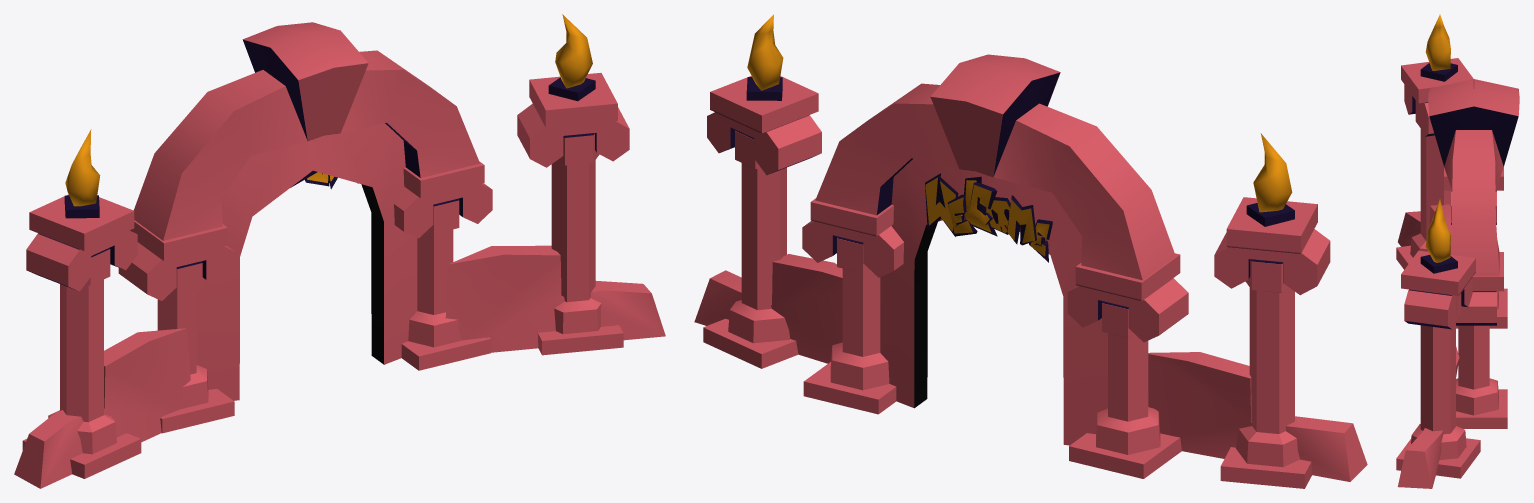
The model's file is welcome_gate_modified.fbx.
The picture shows the model from 3 angles, left to right: view 1: azimuth 30°, elevation 25°; view 2: azimuth 150°, elevation 25°; view 3: azimuth 270°, elevation 25°; orthographic projection. The views are drawn at different scales.
Parts seen in each view (by area): view 1: Pillars; view 2: Pillars, welcome_sign; view 3: Pillars.
Boxes of the visible parts, x1,y1,x2,y2 form: Pillars: (14, 14, 665, 488); Pillars: (694, 14, 1367, 488); welcome_sign: (925, 173, 1052, 262); Pillars: (1396, 14, 1519, 488).
Bounding box in the file's own units: 16.96 × 3.56 × 8.76.
1 material, 1 textured.
